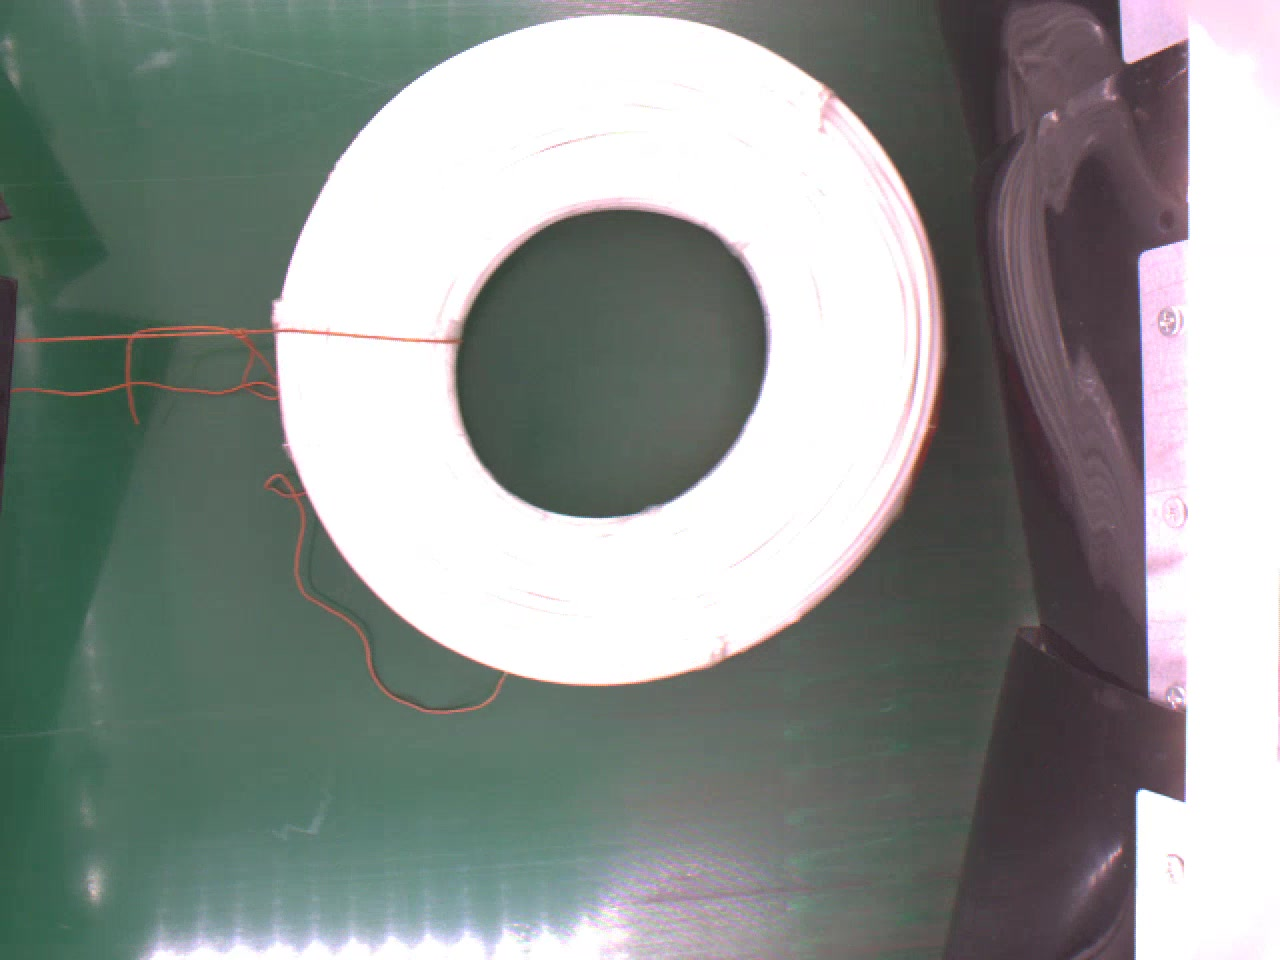white: (269, 14, 951, 693)
